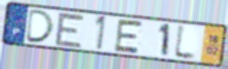1: (157, 23, 173, 58), (94, 15, 108, 53)
D: (23, 8, 56, 45)
E: (53, 10, 87, 50), (112, 18, 145, 56)
L: (172, 22, 199, 63)
